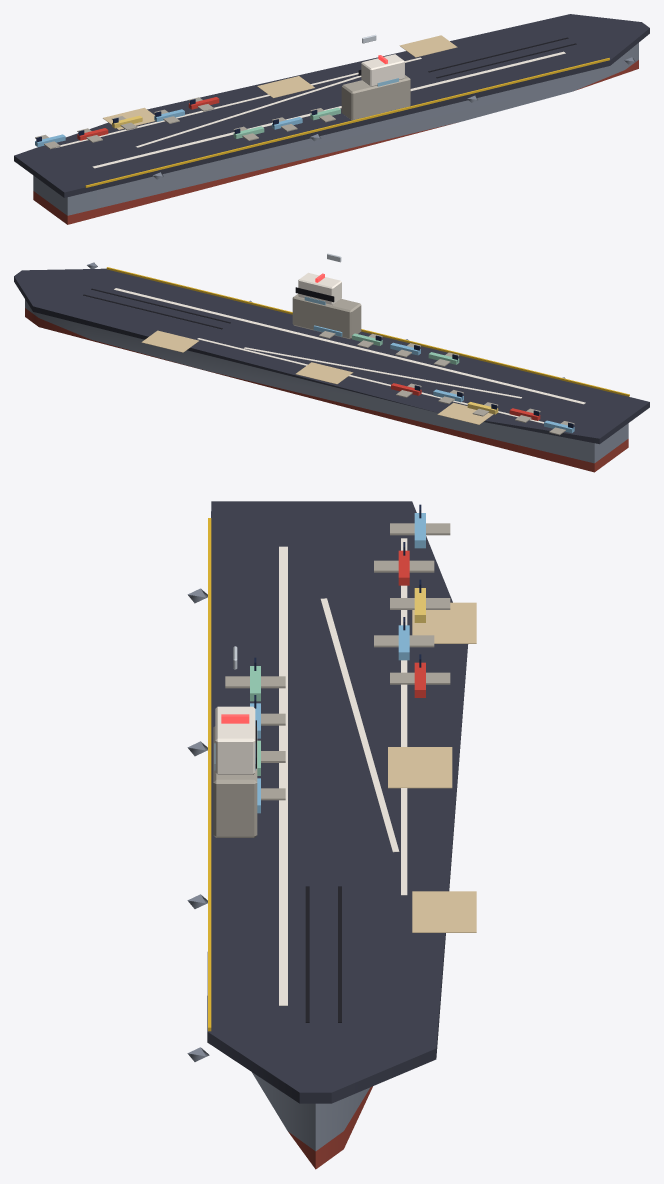
File: aircraft_carrier.glb
3 views of the same model, one above another, from view 1: azimuth 30°, elevation 25°; view 2: azimuth 150°, elevation 25°; view 3: azimuth 270°, elevation 25° (orthographic). The views are drawn at different scales.
Parts seen in each view (by area): view 1: aircraft_carrier; view 2: aircraft_carrier; view 3: aircraft_carrier.
Boxes of the visible parts, left/top/right/bottom form: aircraft_carrier: left=14, top=14, right=649, bottom=224; aircraft_carrier: left=14, top=253, right=649, bottom=472; aircraft_carrier: left=187, top=501, right=476, bottom=1169.
Size of the model in its own units: 348 by 64.49 by 71.92.
Materials: 1 (1 with a texture image).
